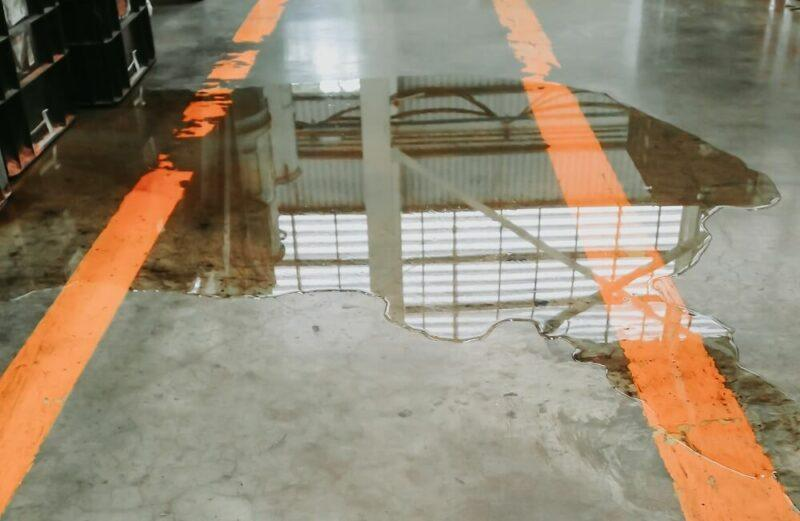water accumulation: (1, 82, 800, 516)
